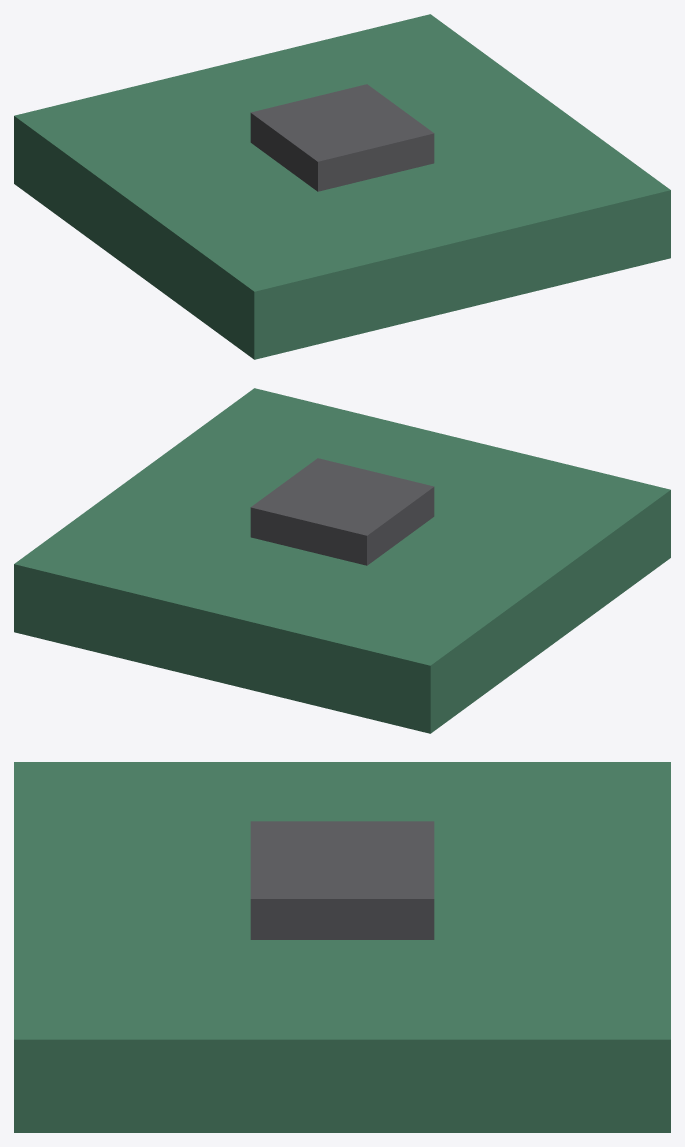
The model's file is rfm95w.glb.
The picture shows the model from 3 angles, top to bottom: view 1: azimuth 30°, elevation 25°; view 2: azimuth 150°, elevation 25°; view 3: azimuth 270°, elevation 25°; orthographic projection. The views are drawn at different scales.
Parts seen in each view (by area): view 1: rfm95w-pcb, rfm95w-ic; view 2: rfm95w-pcb, rfm95w-ic; view 3: rfm95w-pcb, rfm95w-ic.
Boxes of the visible parts, x1,y1,x2,y2 form: rfm95w-pcb: (14,14,670,359); rfm95w-ic: (250,84,434,191); rfm95w-pcb: (14,388,670,733); rfm95w-ic: (250,458,434,565); rfm95w-pcb: (14,762,670,1132); rfm95w-ic: (250,821,434,939).
Bounding box in the file's own units: 0.016 × 0.0036 × 0.016.
